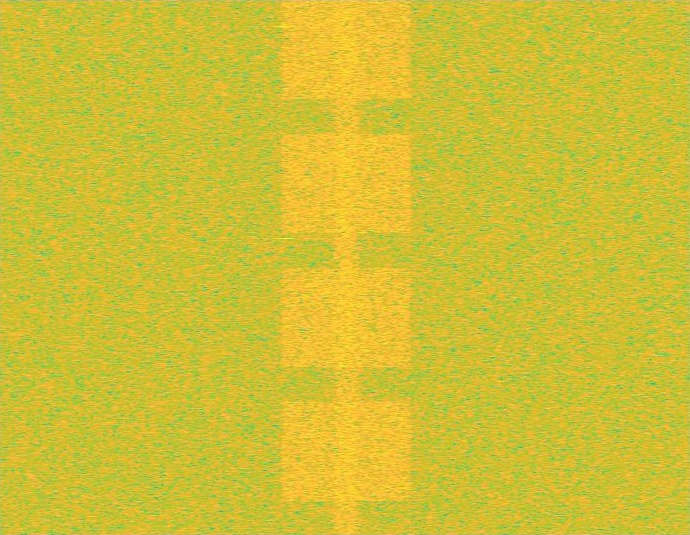5G: (277, 0, 415, 534)
DSSS: (331, 0, 362, 534)
Radar: (279, 0, 293, 534)
